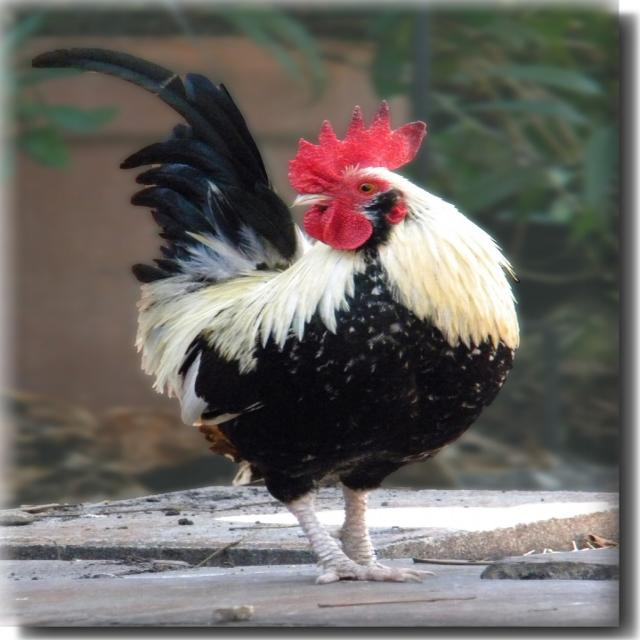Chicken: (19, 50, 522, 587)
